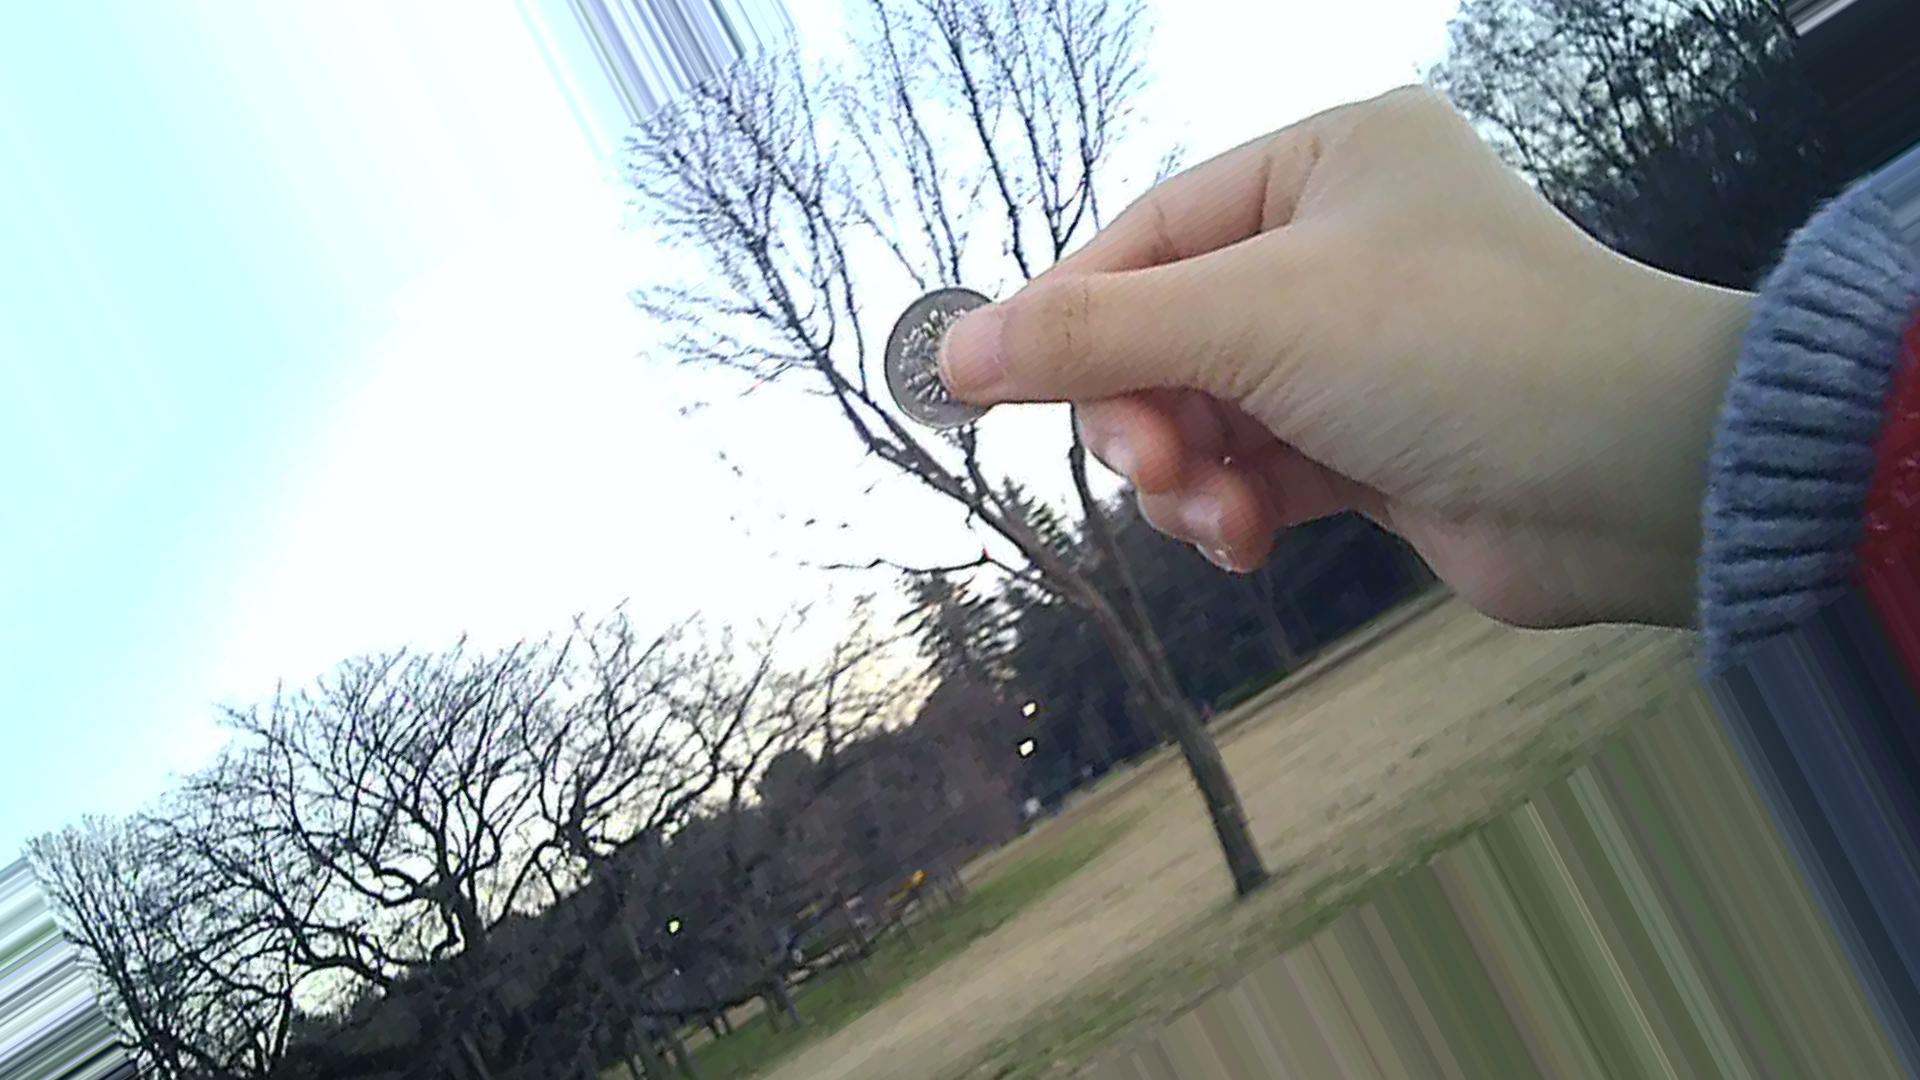100 Yen: (880, 287, 1001, 433)
